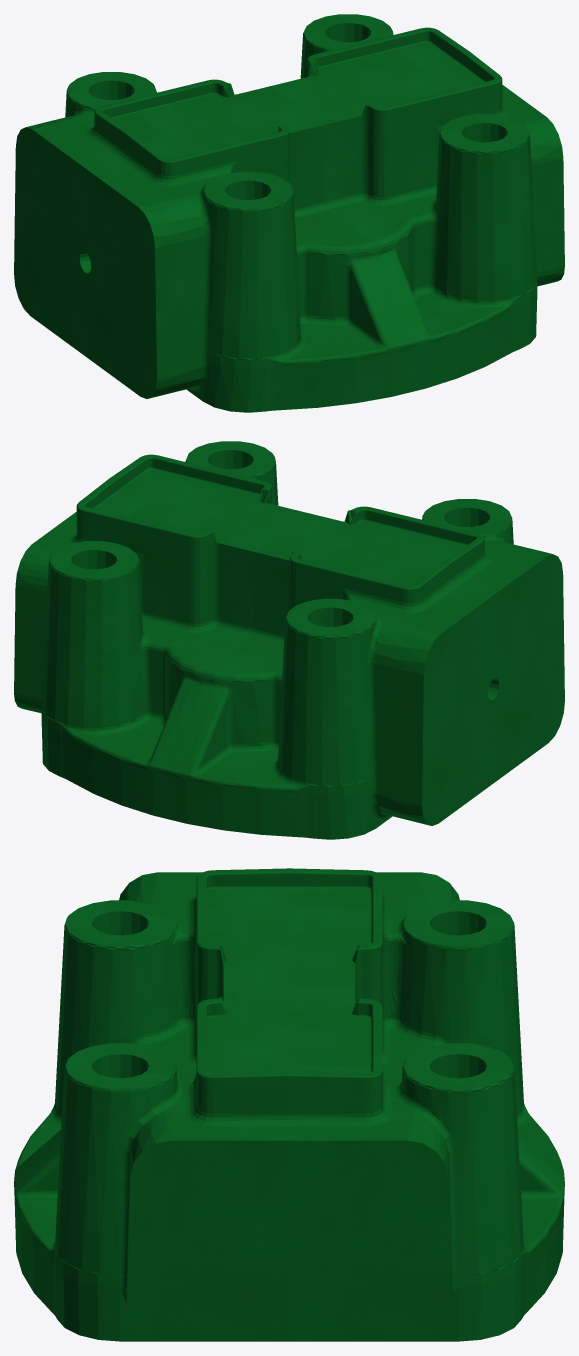
The model's file is Part_green.glb.
The picture shows the model from 3 angles, top to bottom: view 1: azimuth 30°, elevation 25°; view 2: azimuth 150°, elevation 25°; view 3: azimuth 270°, elevation 25°; orthographic projection. The views are drawn at different scales.
Size of the model in its own units: 0.0613 by 0.031 by 0.0571.
Materials: 1 (1 with a texture image).
